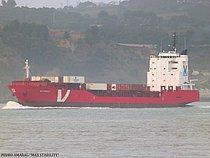Ship: (9, 29, 204, 112)
